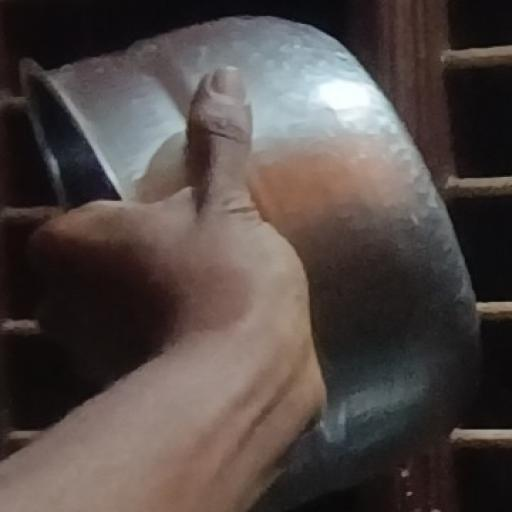vessel: (24, 19, 476, 508)
